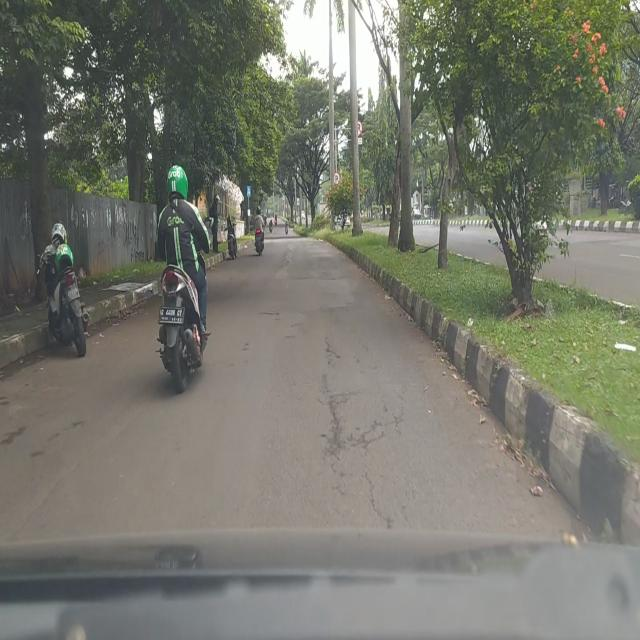Drain Hole: (322, 337, 406, 528)
